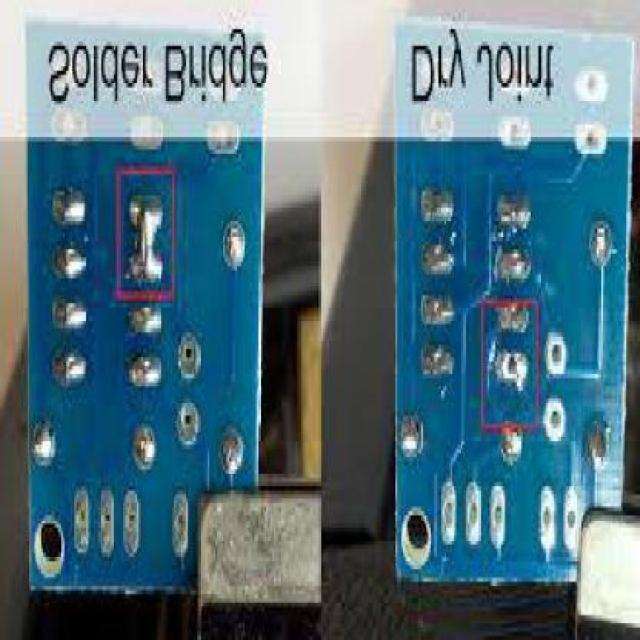Soldering shorted: (118, 190, 168, 304), (481, 303, 537, 403)
